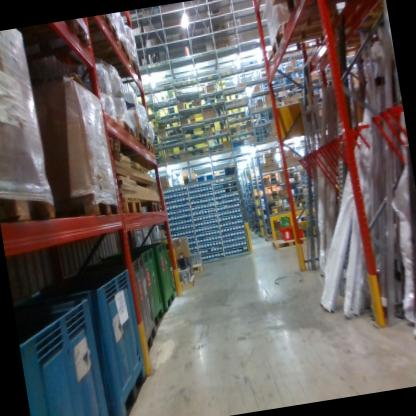pallet: (9, 16, 108, 74), (264, 10, 358, 69), (0, 175, 69, 233), (46, 177, 120, 228), (98, 48, 144, 82), (91, 35, 132, 67), (86, 13, 123, 48), (282, 0, 362, 14), (268, 232, 309, 256), (115, 106, 139, 144), (120, 185, 146, 215), (101, 129, 121, 155), (176, 272, 199, 294), (133, 121, 149, 150), (145, 198, 164, 216), (190, 261, 205, 276), (147, 137, 157, 153)
